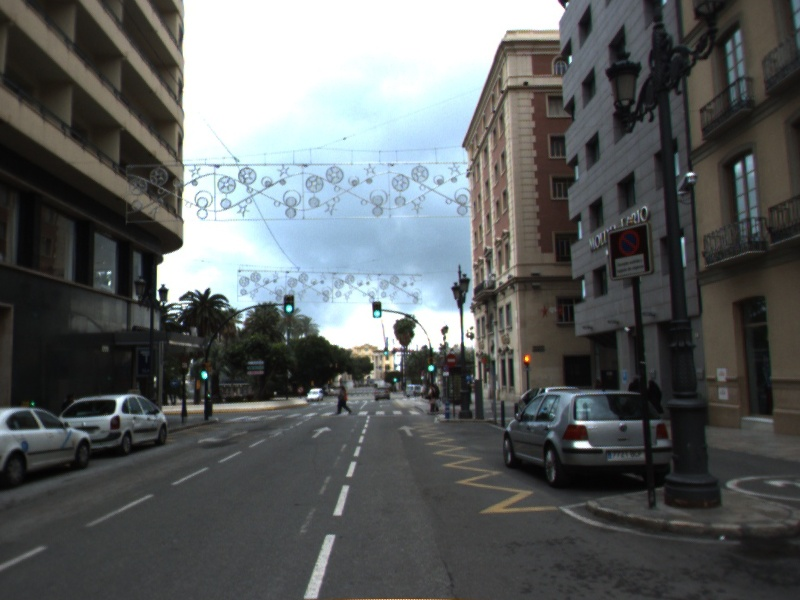STRAIGHT: (309, 424, 334, 440), (395, 423, 418, 438)
STRAIGHT_LEFT: (195, 429, 249, 446)
